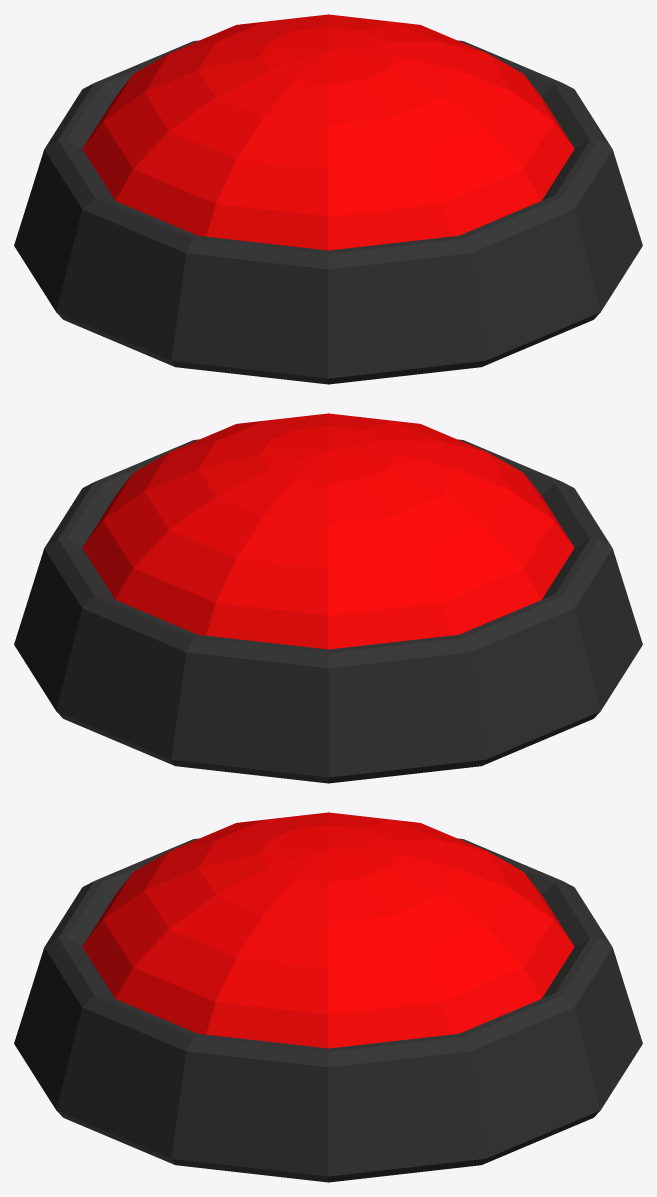
The model's file is Reset_button_Red_.fbx.
3 views of the same model, one above another, from view 1: azimuth 30°, elevation 25°; view 2: azimuth 150°, elevation 25°; view 3: azimuth 270°, elevation 25° (orthographic).
Parts seen in each view (by area): view 1: Cylinder.025; view 2: Cylinder.025; view 3: Cylinder.025.
Part boxes in pixels (x1,y1,x2,y2): Cylinder.025: [14, 14, 642, 384]; Cylinder.025: [14, 413, 642, 783]; Cylinder.025: [14, 812, 642, 1182].
Size of the model in its own units: 24.97 by 8.95 by 24.97.
